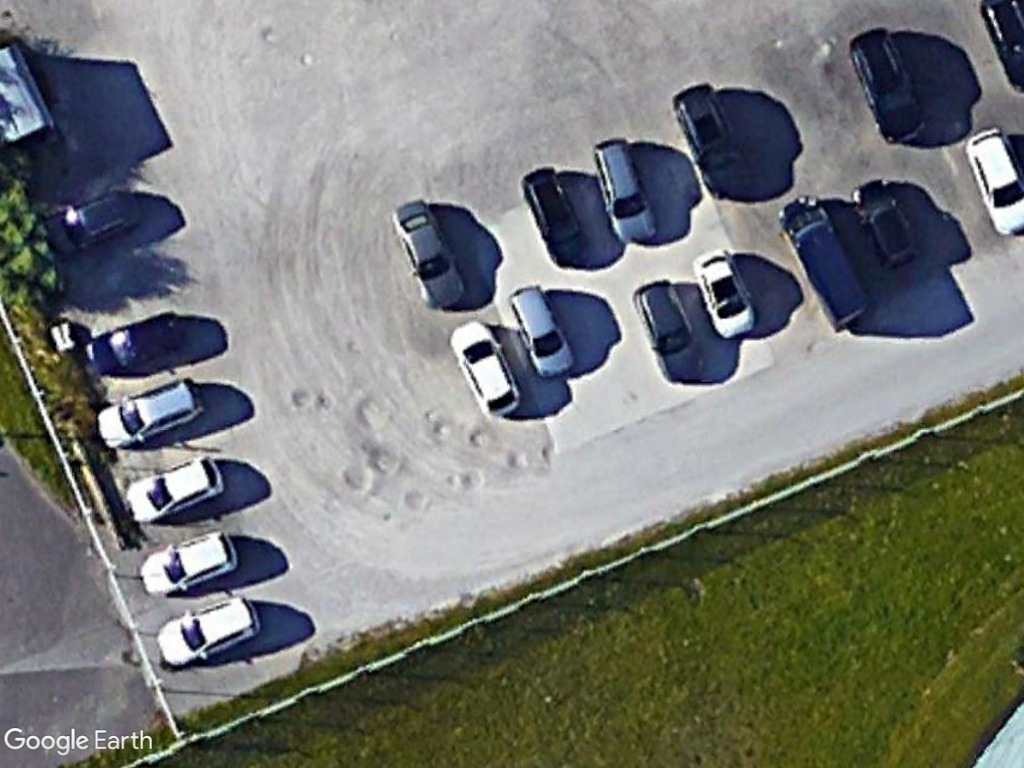car: (845, 26, 931, 145), (670, 81, 755, 201), (383, 198, 468, 312), (155, 591, 266, 669), (95, 372, 204, 451), (121, 451, 226, 529), (630, 277, 705, 384), (589, 134, 659, 248), (137, 524, 239, 602), (84, 303, 187, 379), (446, 321, 523, 421), (40, 184, 142, 259), (519, 166, 590, 268), (689, 245, 762, 343), (962, 125, 1024, 240), (508, 282, 576, 381), (853, 175, 920, 272)
van: (774, 190, 871, 332)
